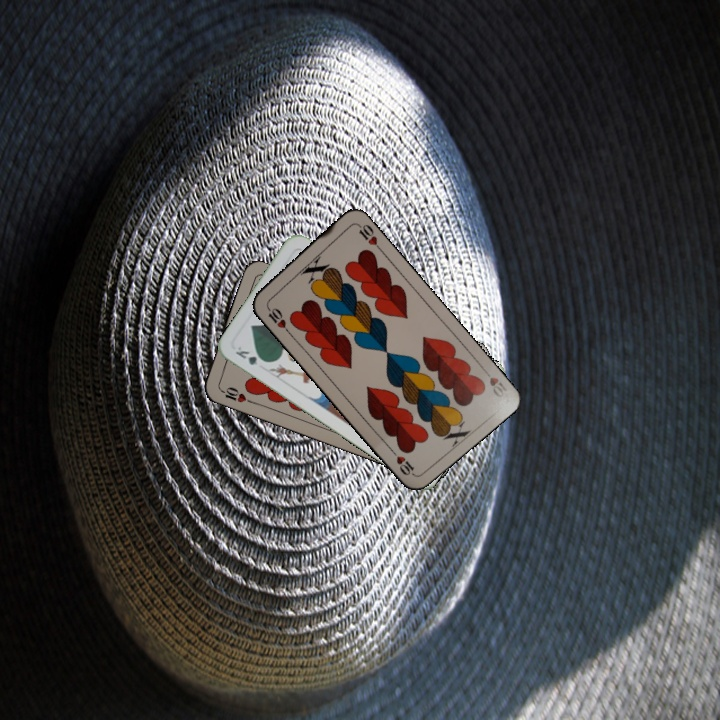GK: (231, 342, 270, 368)
H10: (478, 364, 511, 400), (262, 301, 292, 335), (216, 383, 255, 406)
